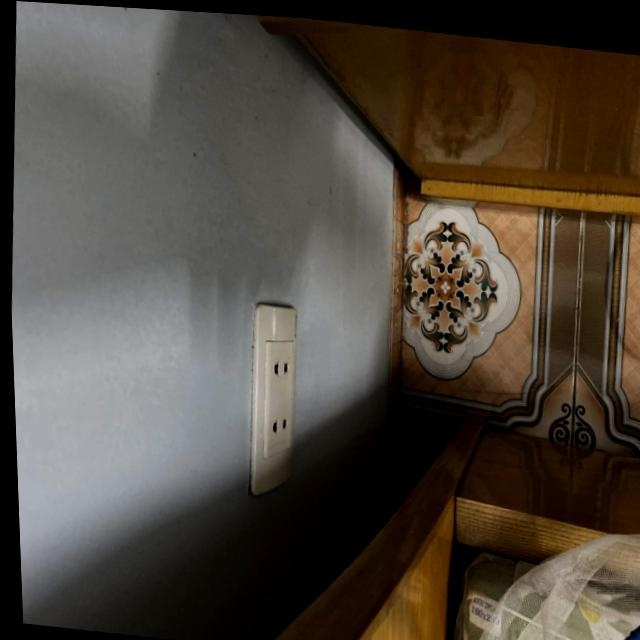outlet: (242, 301, 305, 501)
